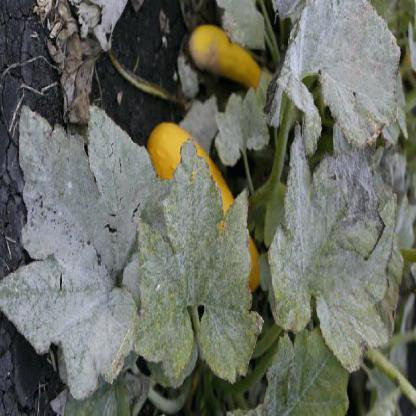Squash Powdery mildew leaf: (0, 91, 162, 382), (262, 118, 400, 370), (136, 132, 260, 384), (274, 2, 408, 134)
